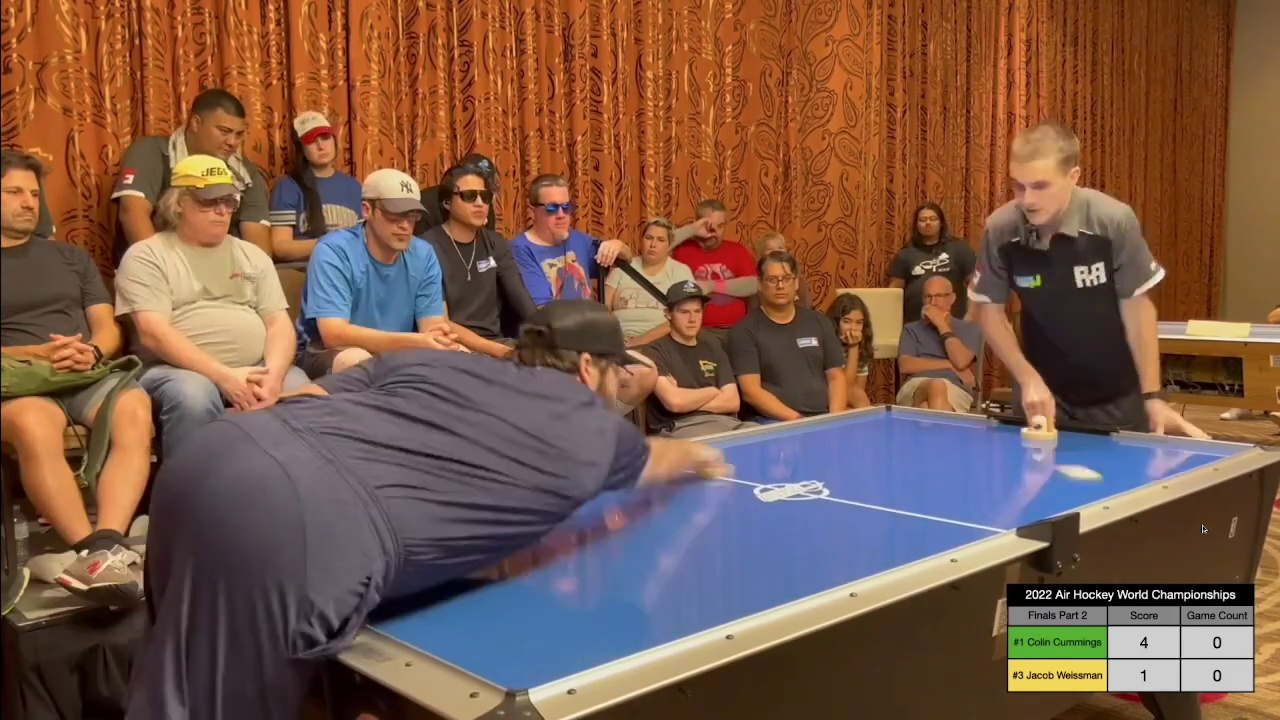player: (1013, 411, 1058, 441), (700, 443, 738, 477)
puck: (1058, 464, 1103, 480)
table: (231, 409, 1280, 664)
